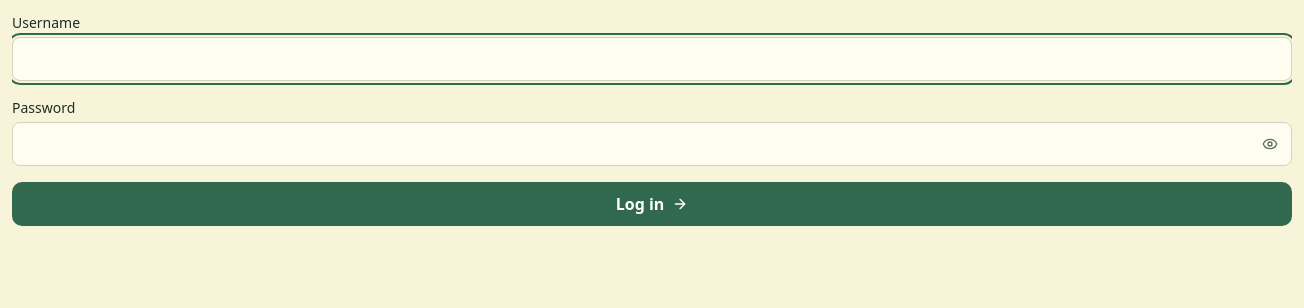
Test: LoginForm › shows the server message on a wrong password
Type "owner" into the field labelled "Username" at (652, 59), box left=12, top=37, right=1292, bottom=81
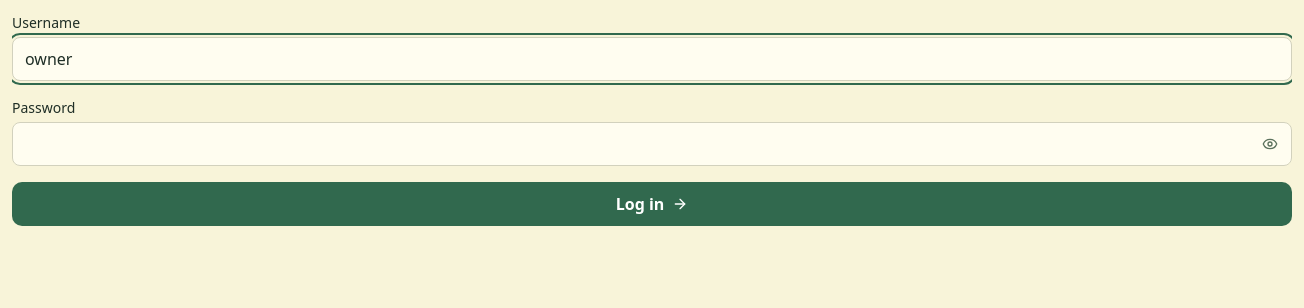
Type "everest123" into the password field labelled "Password" at (652, 144), box left=12, top=122, right=1292, bottom=166
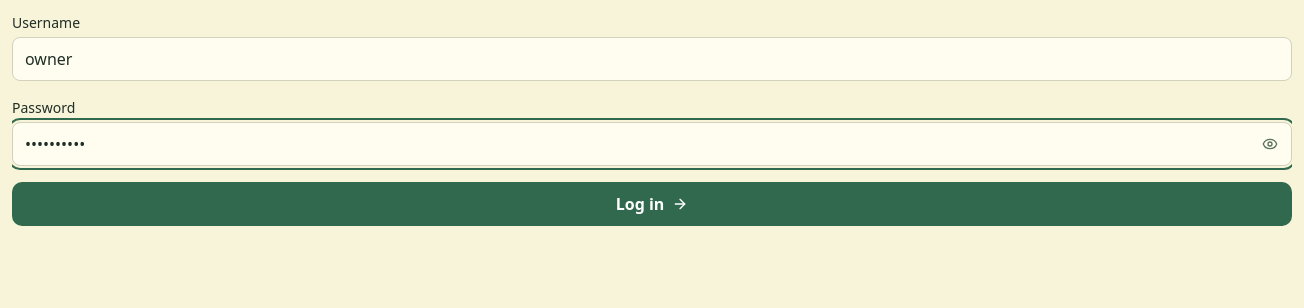
Click the button "Log in" at (652, 204), box left=12, top=182, right=1292, bottom=226
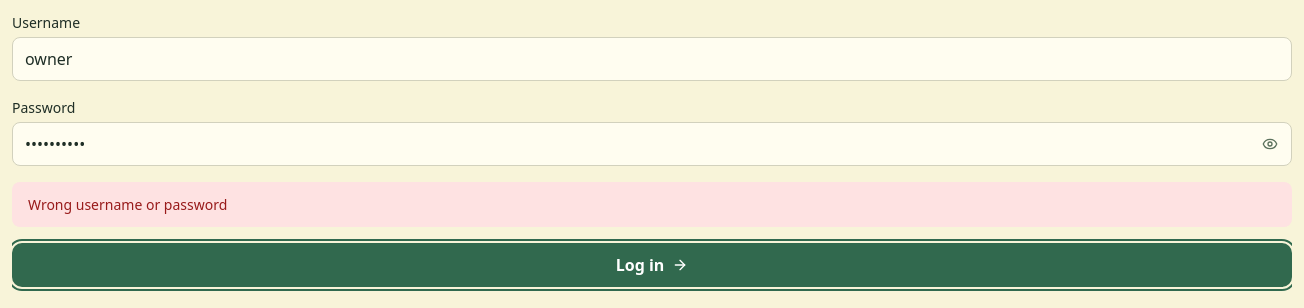
Now the message reads "Wrong username or password", box left=28, top=195, right=227, bottom=214
